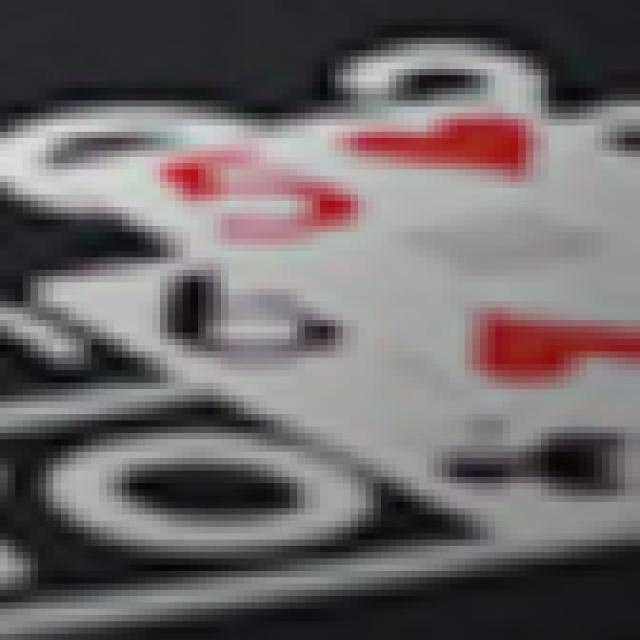Card-5: (79, 91, 638, 427)
Card-6: (38, 249, 636, 544)
